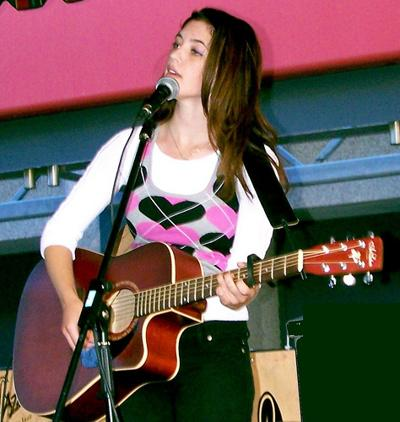person: (41, 6, 284, 422)
